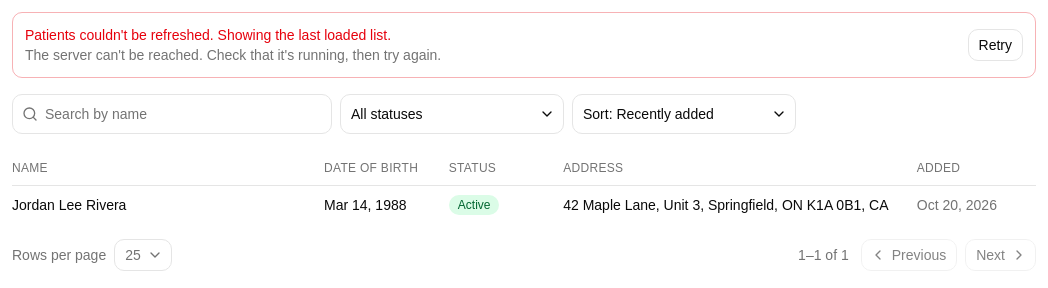
Scenario: PatientDirectory › removes the refresh banner and shows the latest patients after Retry
This screenshot has width=1048, height=288.
Click the button "Retry" at (995, 45), box [968, 29, 1023, 61]
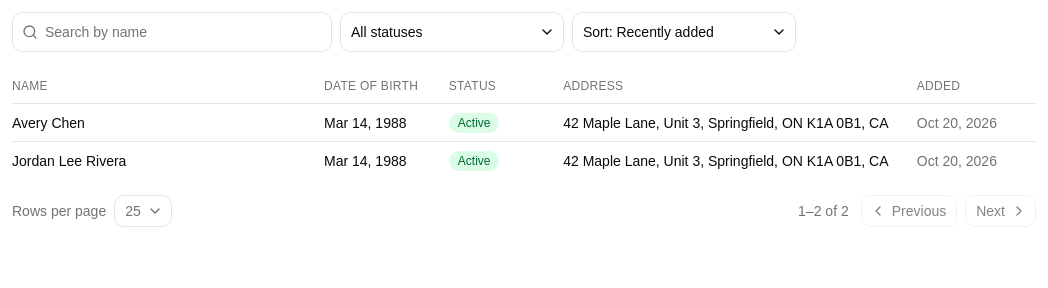
Expected: the message is gone
